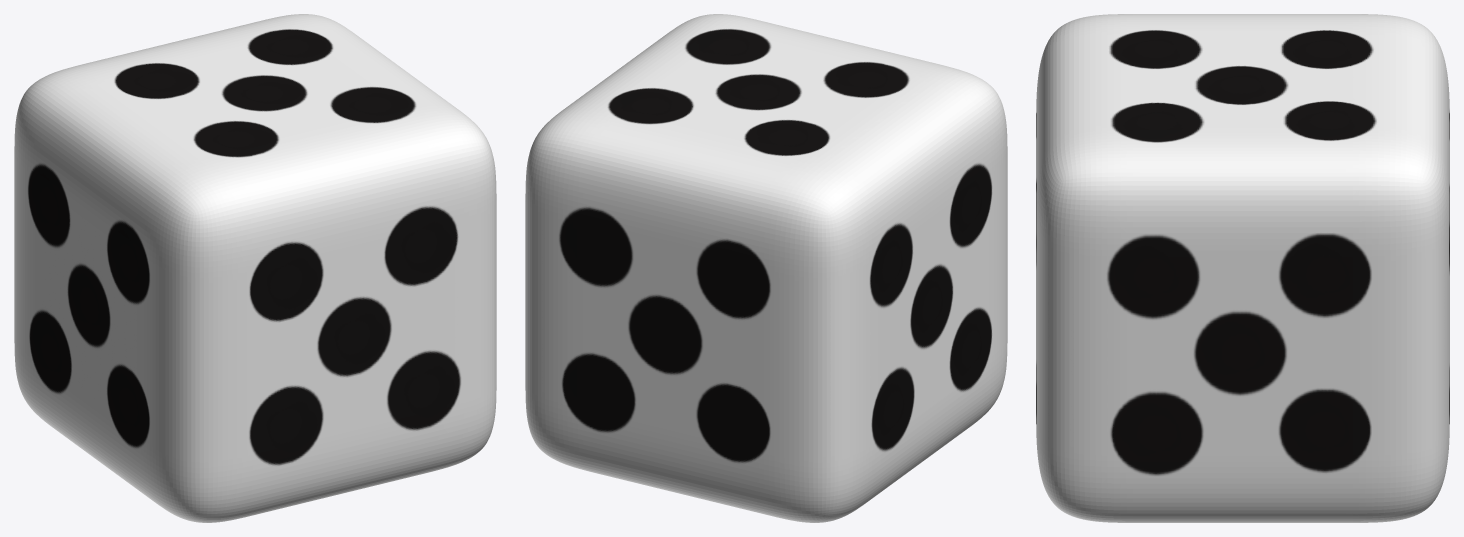
The model's file is Dice5.glb.
3 renders of one model, left to right at view 1: azimuth 30°, elevation 25°; view 2: azimuth 150°, elevation 25°; view 3: azimuth 270°, elevation 25°, orthographic. The views are drawn at different scales.
Visible parts, largest first — view 1: Dice_20Ready; view 2: Dice_20Ready; view 3: Dice_20Ready.
Part boxes in pixels (x1=…): Dice_20Ready: x1=14, y1=14, x2=496, y2=522; Dice_20Ready: x1=525, y1=14, x2=1007, y2=522; Dice_20Ready: x1=1036, y1=14, x2=1449, y2=522.
Bounding box in the file's own units: 1 × 1 × 1.
Materials: 1 (1 with a texture image).
